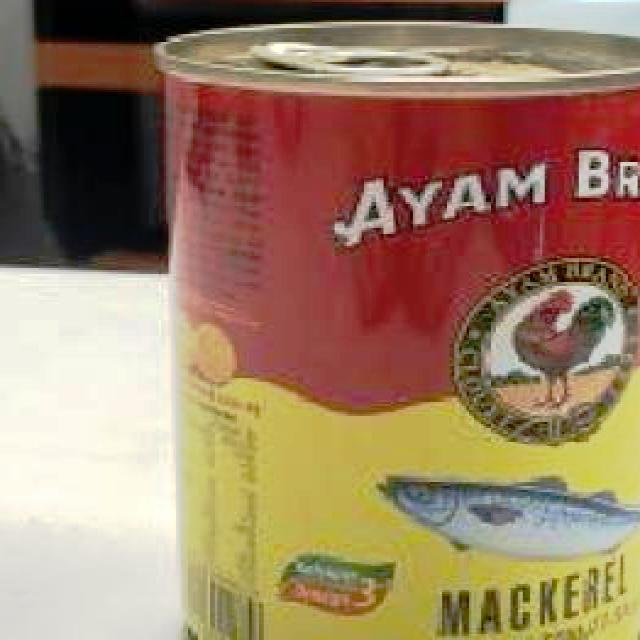Lata: (160, 22, 640, 639)
